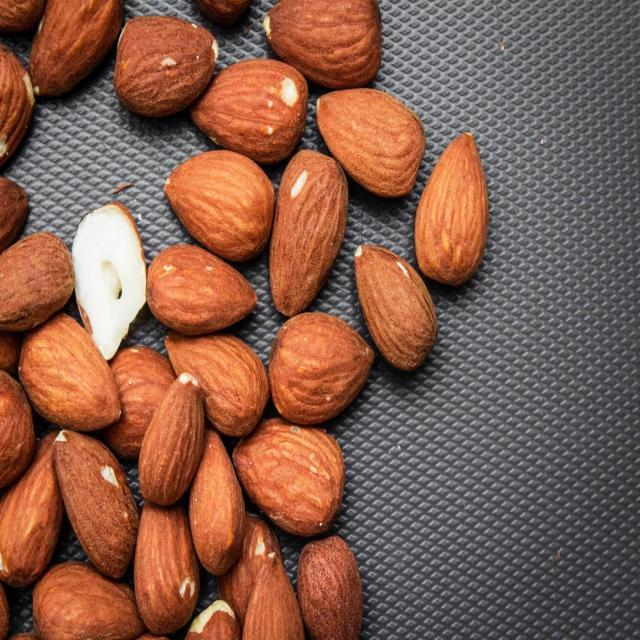almond: (268, 150, 352, 317), (232, 415, 348, 535), (50, 428, 138, 585), (18, 310, 125, 432), (195, 54, 313, 159), (268, 312, 377, 425), (163, 150, 277, 257), (315, 85, 427, 193), (410, 134, 490, 284), (160, 325, 265, 438), (23, 0, 126, 106), (355, 242, 438, 372), (0, 433, 65, 595), (115, 19, 217, 119), (263, 0, 381, 86), (148, 244, 260, 334), (138, 373, 207, 507), (133, 503, 202, 637), (32, 560, 135, 640), (188, 435, 245, 577), (294, 533, 361, 640)
